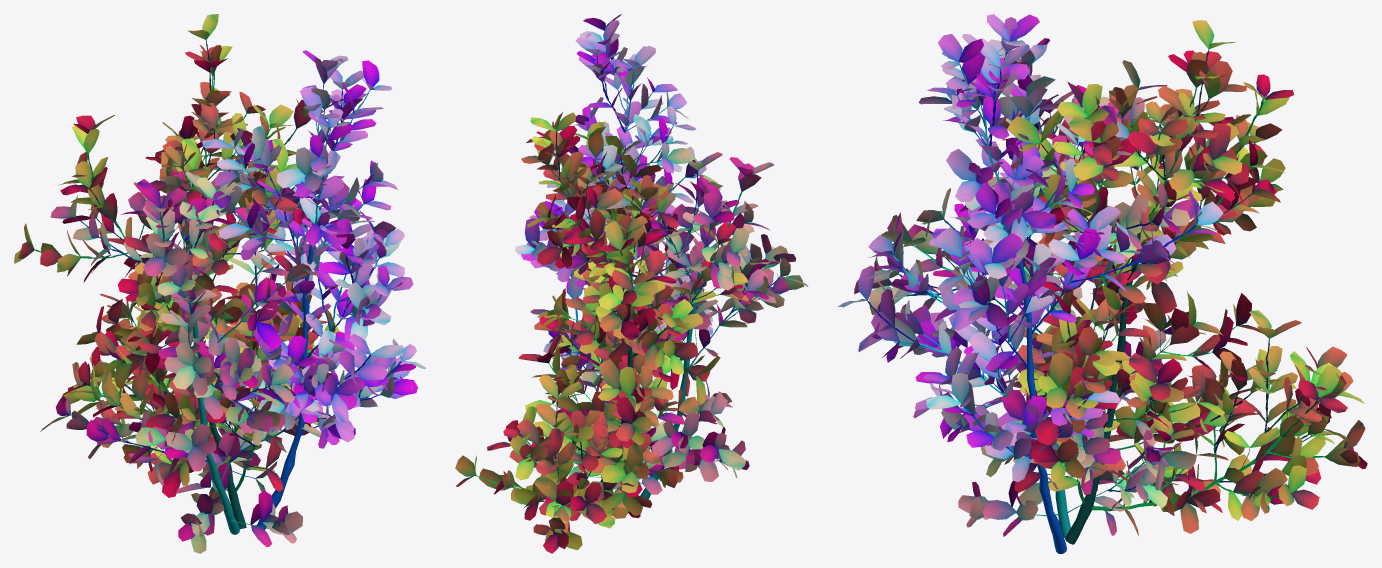
The model's file is Boxwood_wfypfa3ha_Low_wfypfa3ha_VarI_LOD0.fbx.
3 renders of one model, left to right at view 1: azimuth 30°, elevation 25°; view 2: azimuth 150°, elevation 25°; view 3: azimuth 270°, elevation 25°, orthographic. The views are drawn at different scales.
Visible parts, largest first — view 1: _qcca_VarI_LOD2; view 2: _qcca_VarI_LOD2; view 3: _qcca_VarI_LOD2.
Part boxes in pixels (left/top/right/bottom): _qcca_VarI_LOD2: left=14, top=14, right=426, bottom=553; _qcca_VarI_LOD2: left=455, top=14, right=808, bottom=553; _qcca_VarI_LOD2: left=837, top=14, right=1367, bottom=553.
Bounding box in the file's own units: 30.26 × 46.69 × 40.24.
